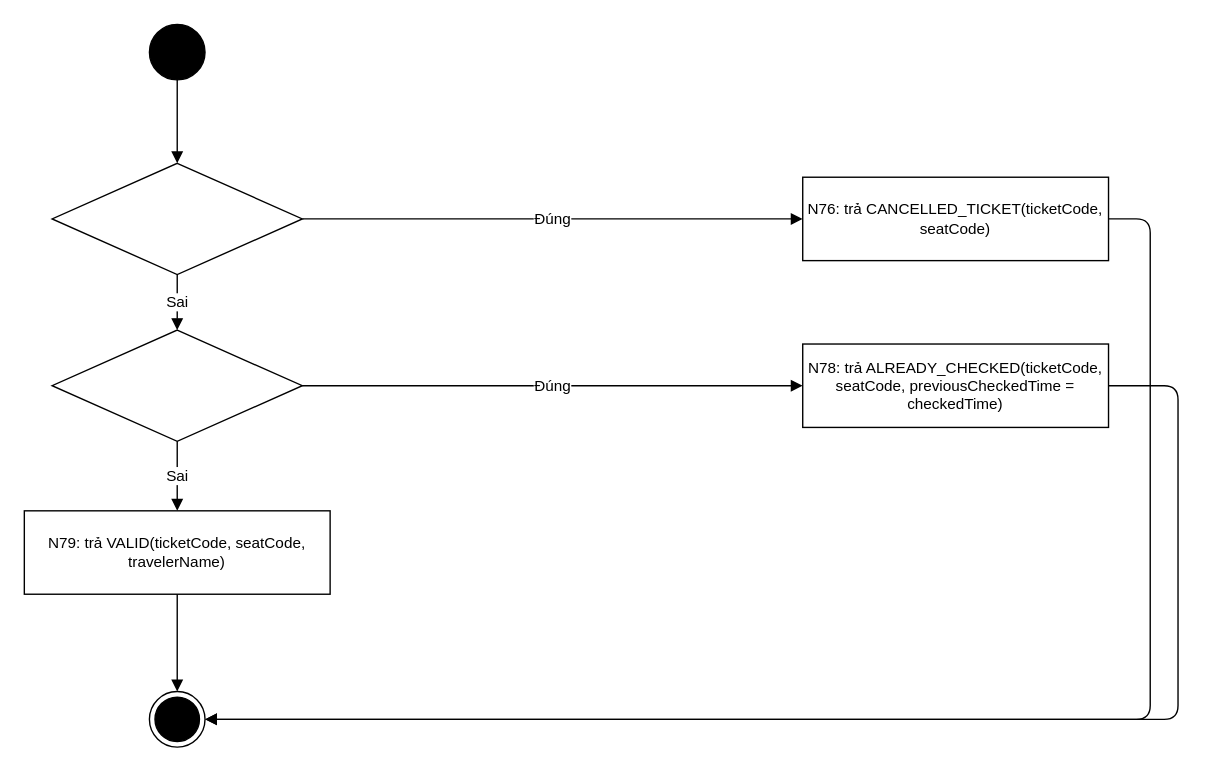
Image size: 1213x771. Some labels were removed from this diagram. The shapes that lost their labels are listed below. From the top down, each one's centre as x and y in pixels, then its label:
the point at 176,218: N75: status là CANCELLED?
the point at 176,385: N77: checkedTime khác rỗng?
